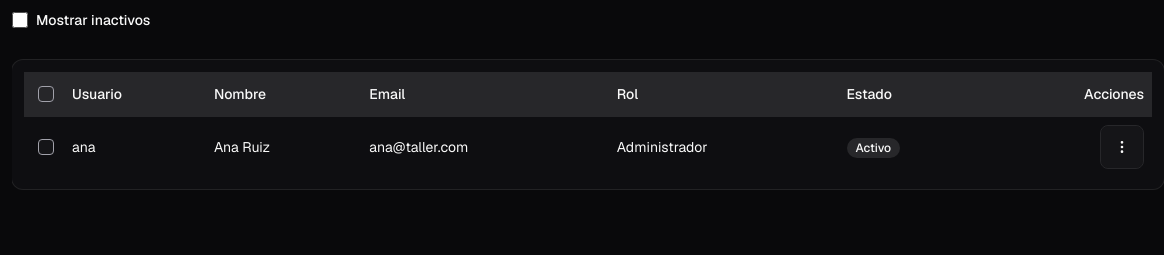
Scenario: UsersTable — the action each row offers › offers Desactivar on an active row
Click the button named "Acciones de ana".
click(1122, 147)  # box [1100, 125, 1144, 169]
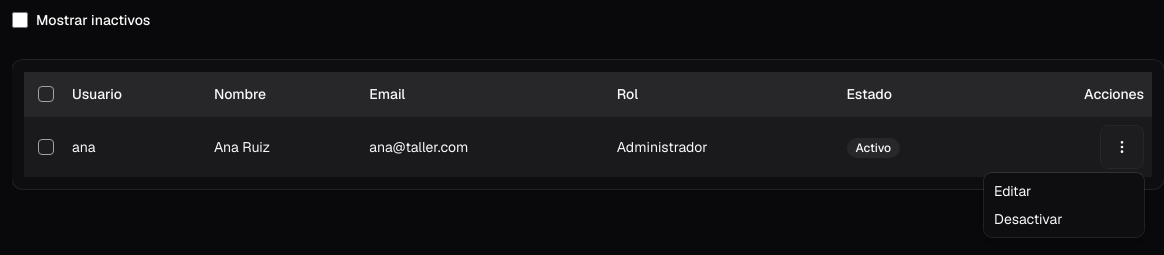
Now the menu is shown, box [984, 173, 1144, 237]
Now the menu item "Desactivar" is shown, box [994, 210, 1062, 228]
